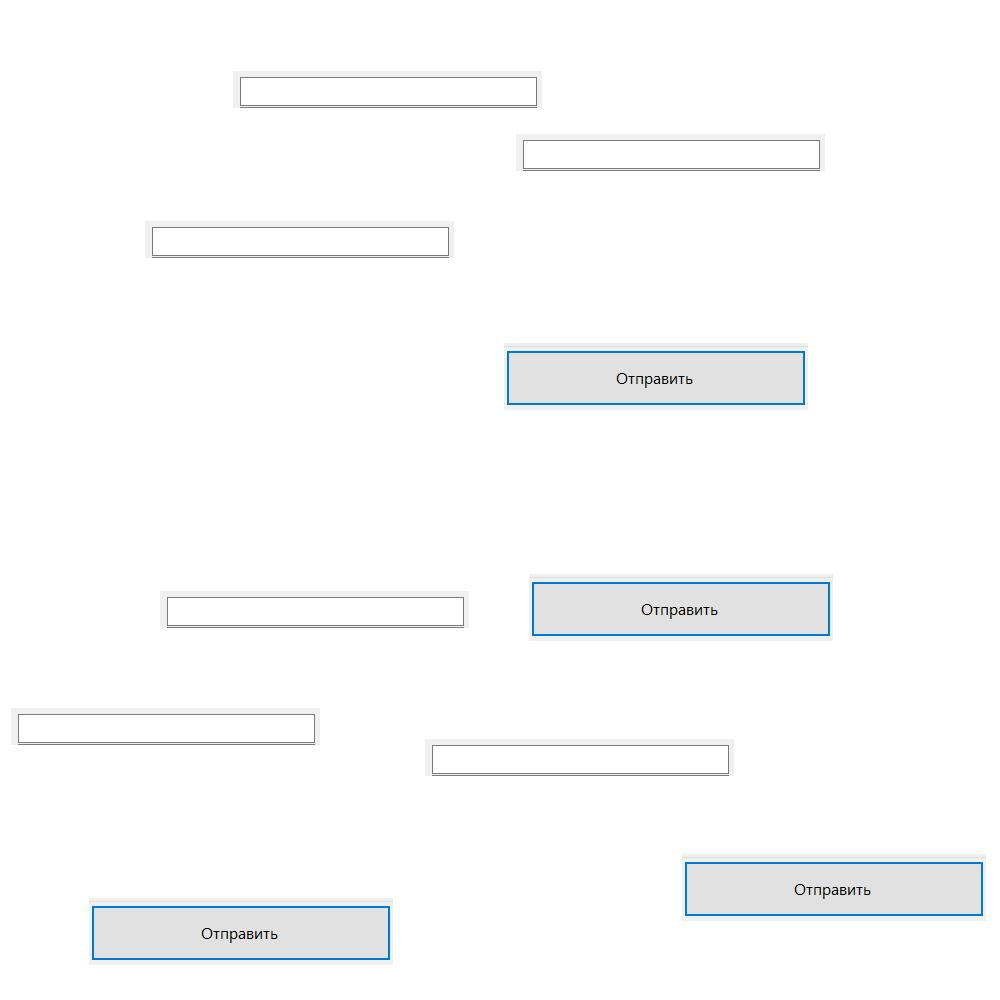Button: (529, 574, 833, 641), (89, 898, 393, 965), (504, 343, 808, 410), (682, 854, 986, 921)
EditText-: (516, 134, 825, 171), (425, 739, 734, 776), (145, 221, 454, 258), (233, 71, 542, 108), (160, 591, 469, 628), (11, 708, 320, 745)
